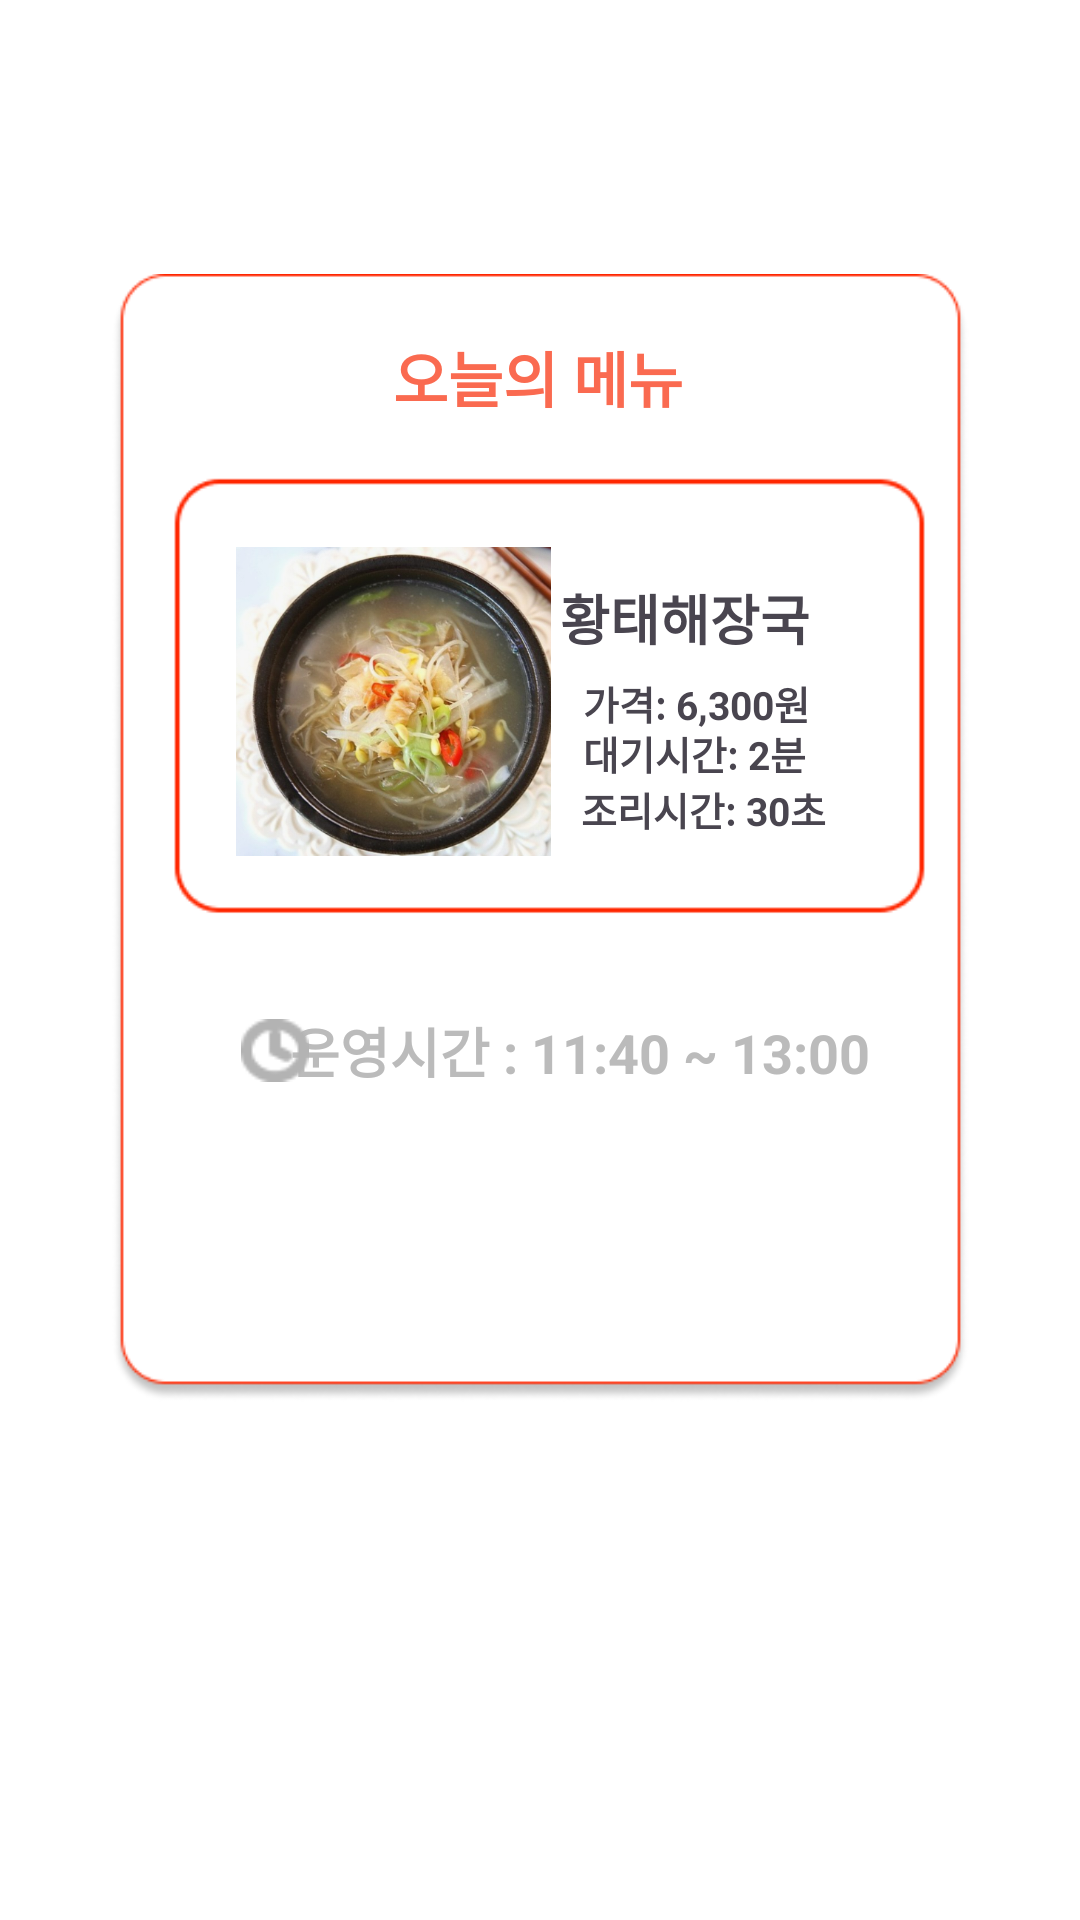

Icon click points for this 1080 x 1920 phone screenshot, format [x,y]:
clockicon: [276,1050]
